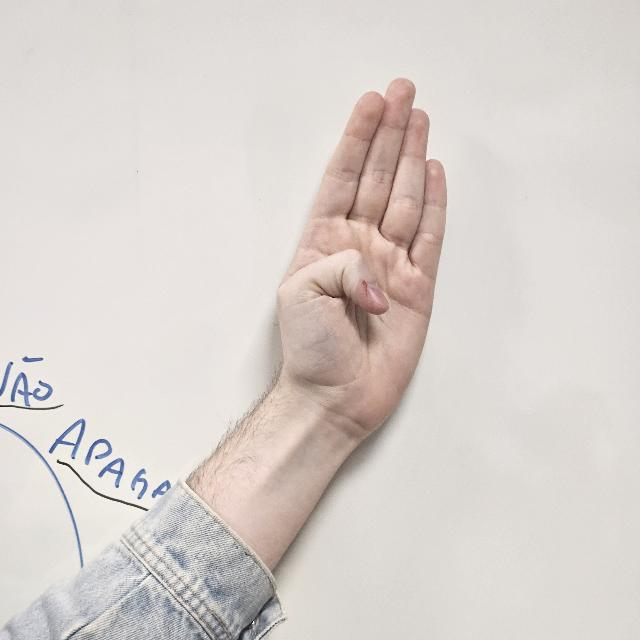Baixo: (271, 77, 451, 437)
